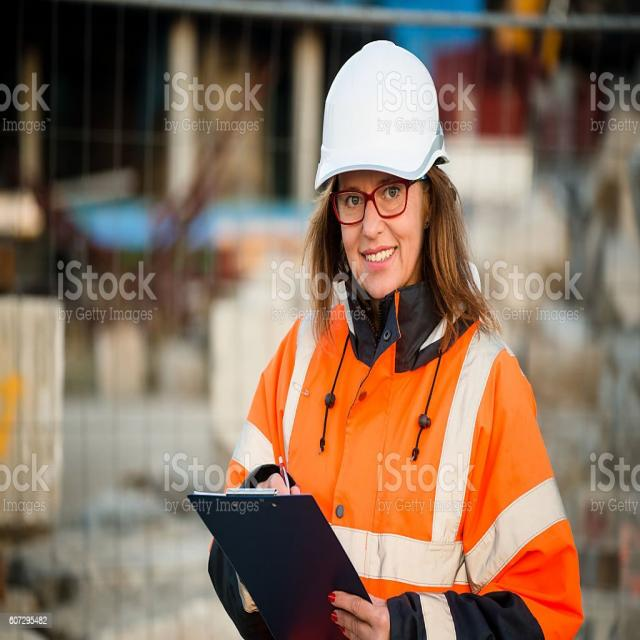Reflective-Jacket: (261, 288, 580, 634)
Safety-Helmet: (312, 36, 451, 192)
